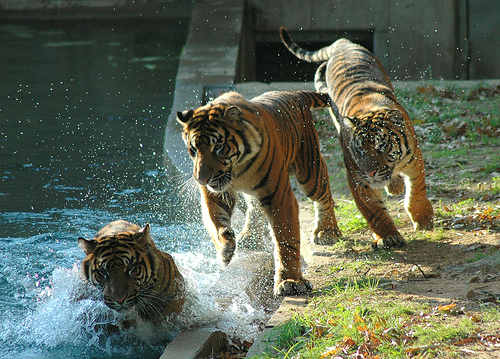Tigre: (164, 85, 337, 282), (304, 37, 436, 231), (57, 203, 189, 330)
